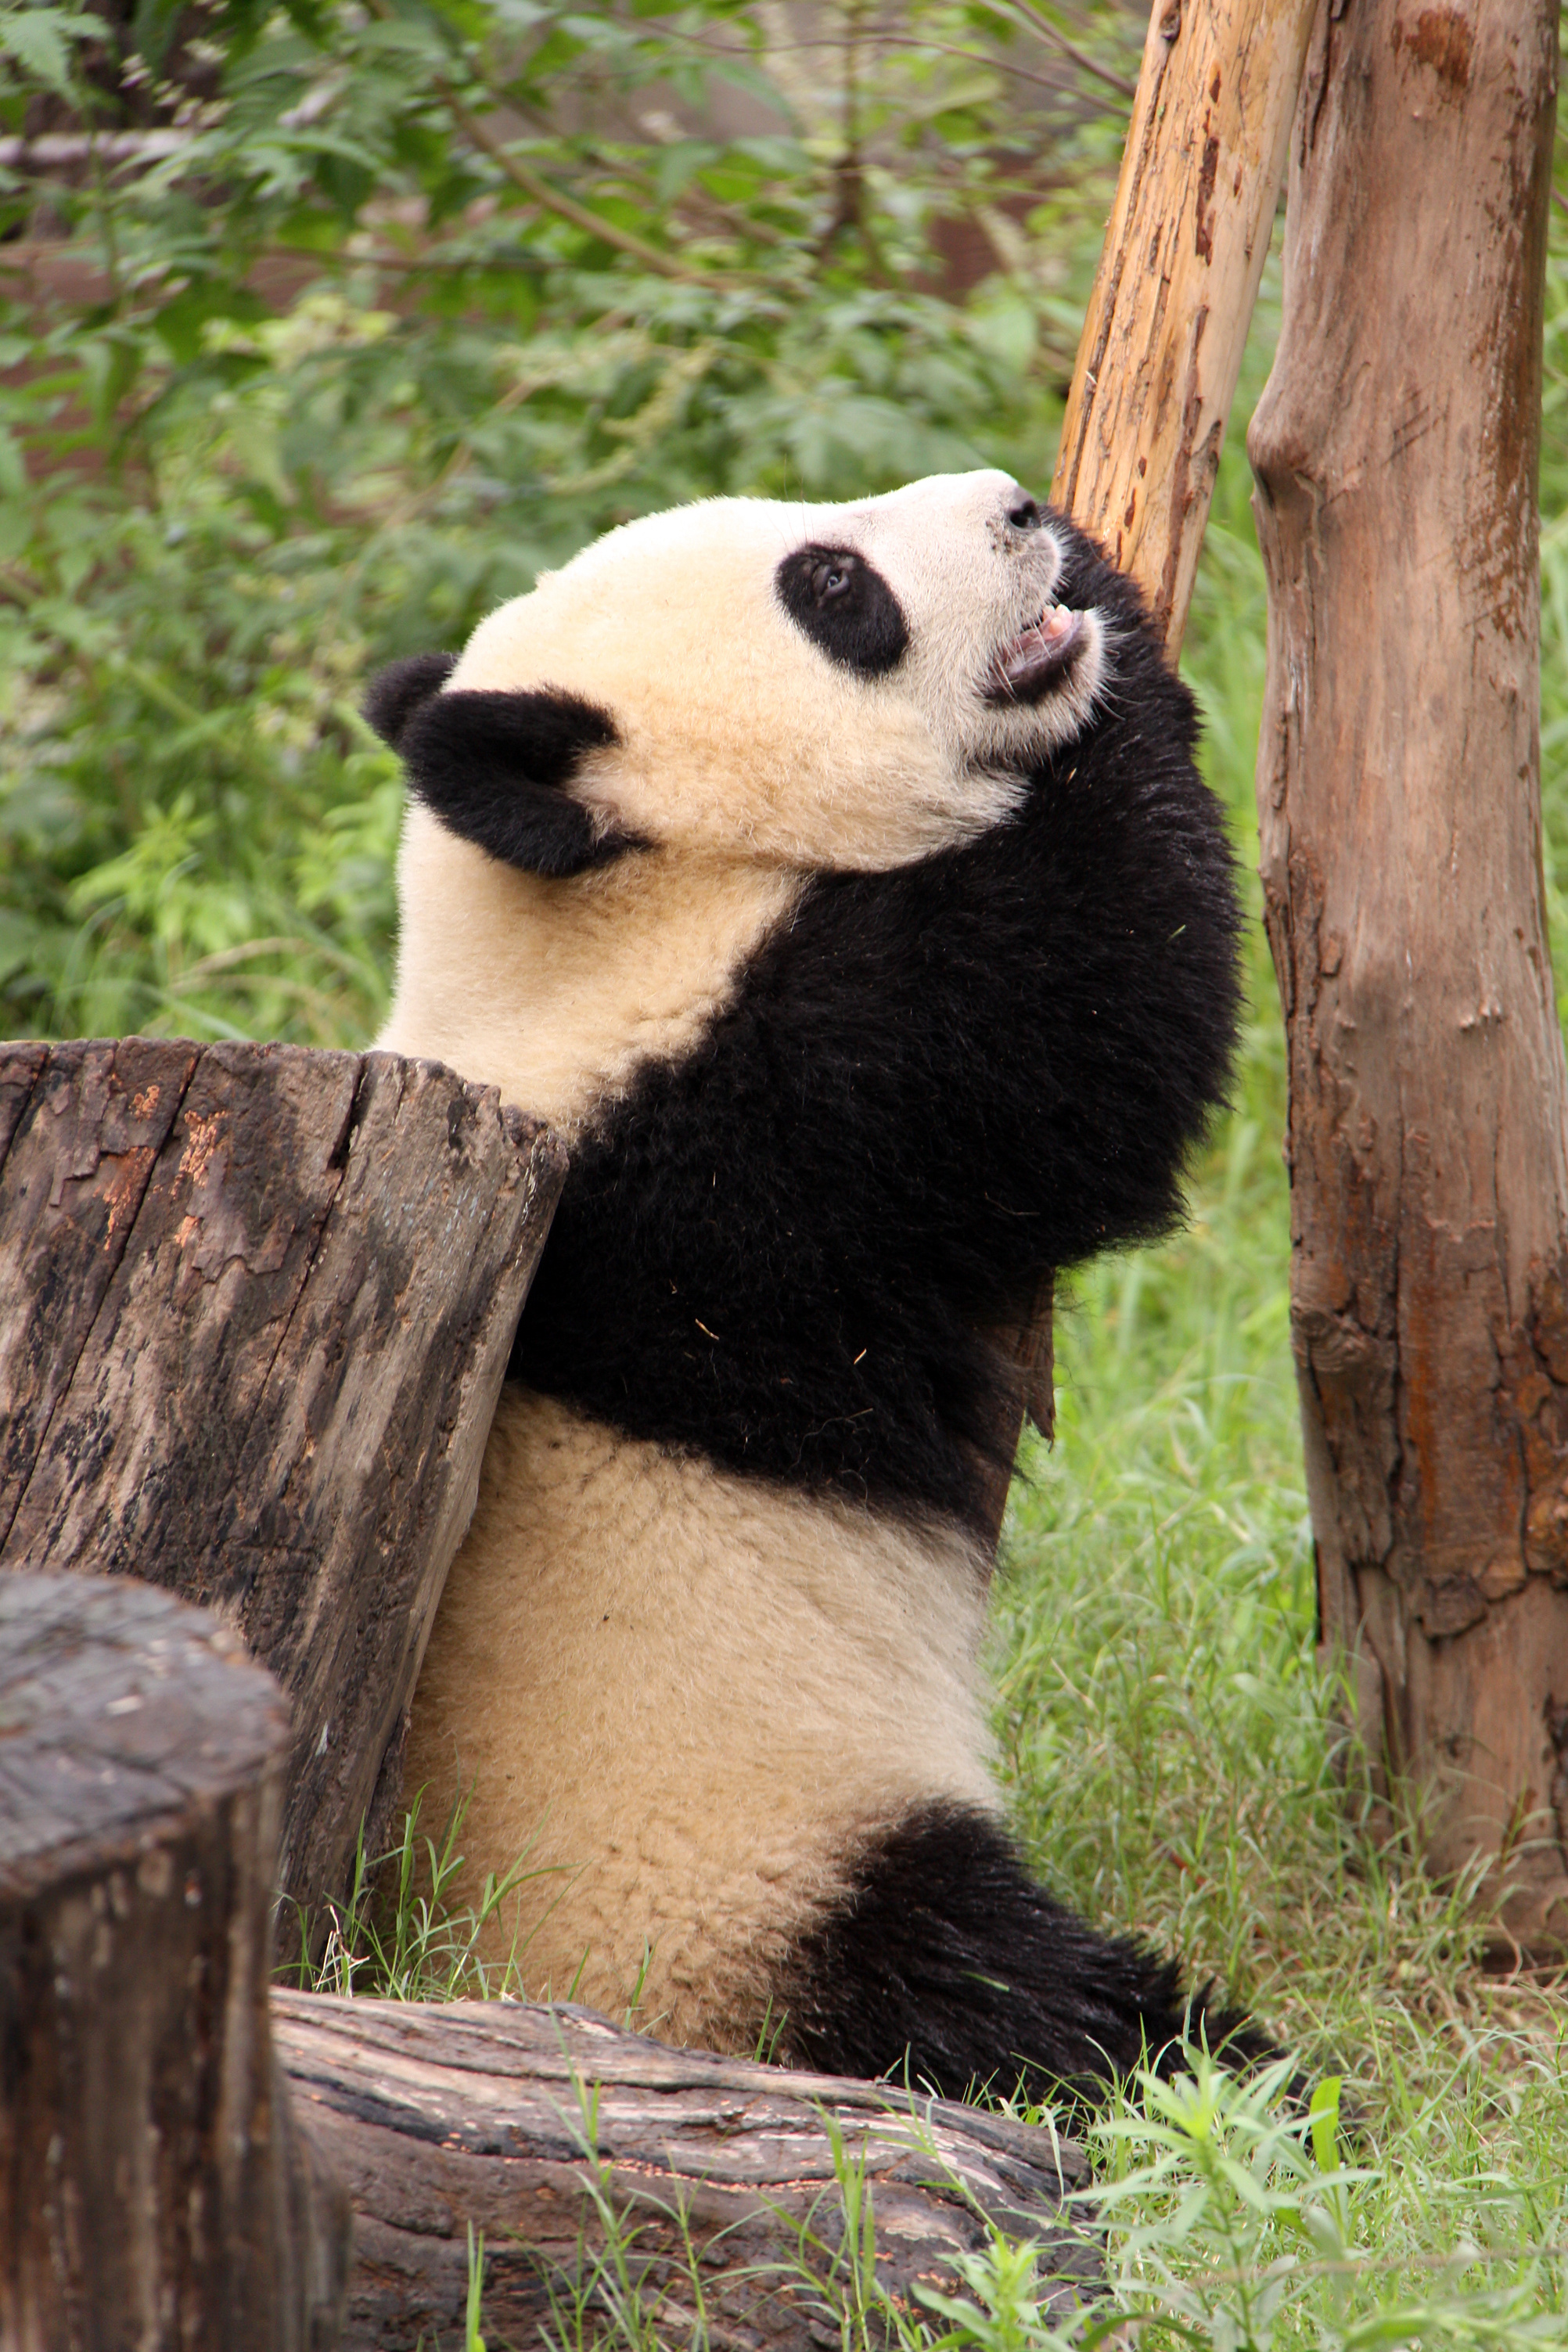panda: (303, 404, 1389, 2140)
